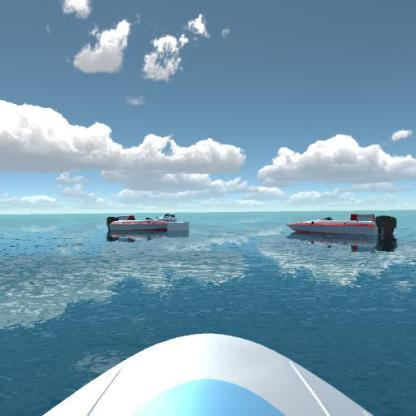usv1: (154, 211, 178, 222)
usv3: (284, 210, 399, 247), (103, 212, 177, 236)
